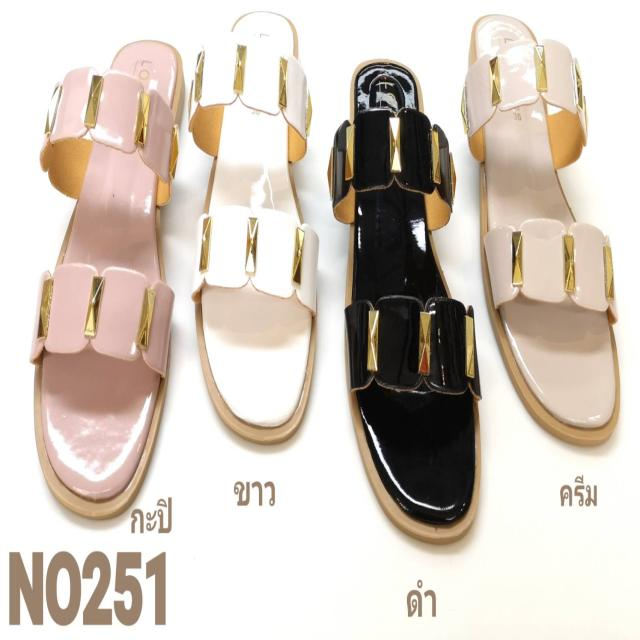black: (351, 58, 478, 528)
cream: (474, 20, 622, 437)
kapi: (36, 39, 165, 511)
white: (191, 10, 315, 440)
